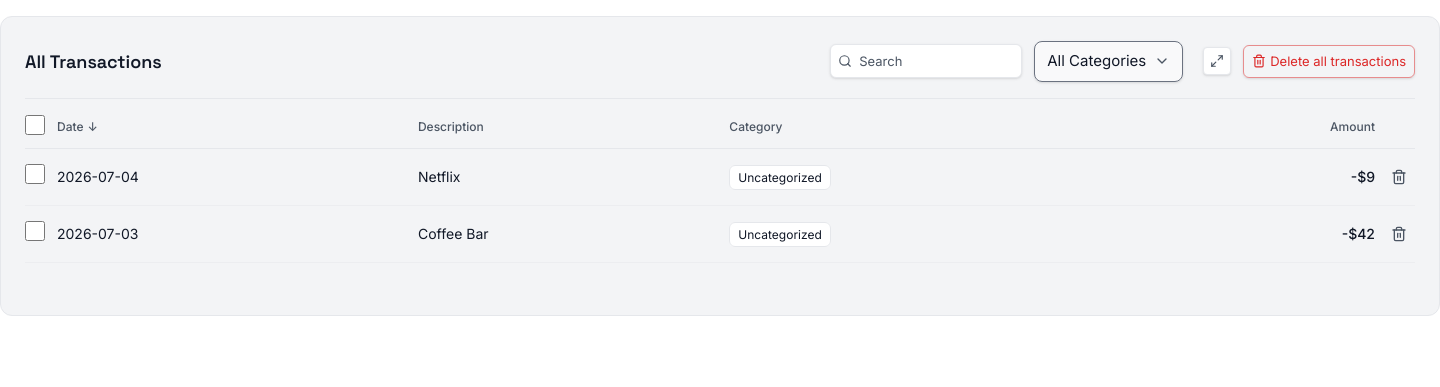
Test case: TransactionListWidget bulk actions › selects and clears every visible row from the header checkbox
Click the checkbox named "Select all transactions" at [35, 124], box [25,114,45,134]
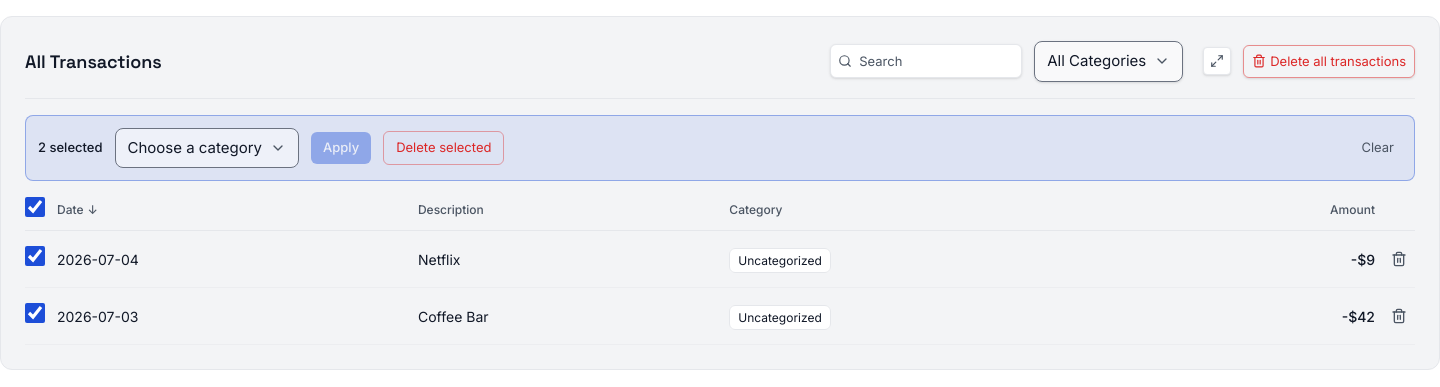
Expected: the text "2 selected" is shown, [38,138,102,158]
Click the checkbox named "Select all transactions" at [35, 207], box [25,197,45,217]
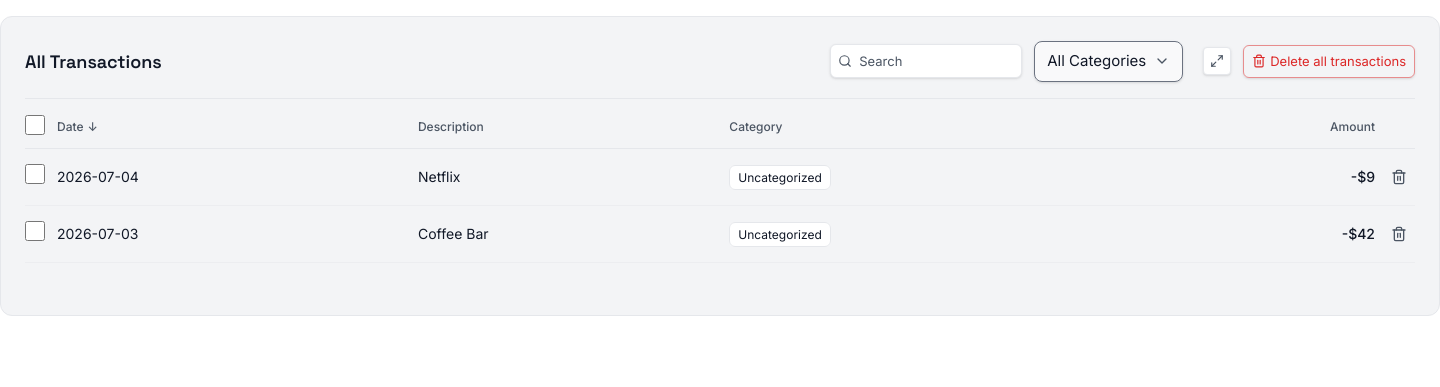
Expected: the text "2 selected" is gone
